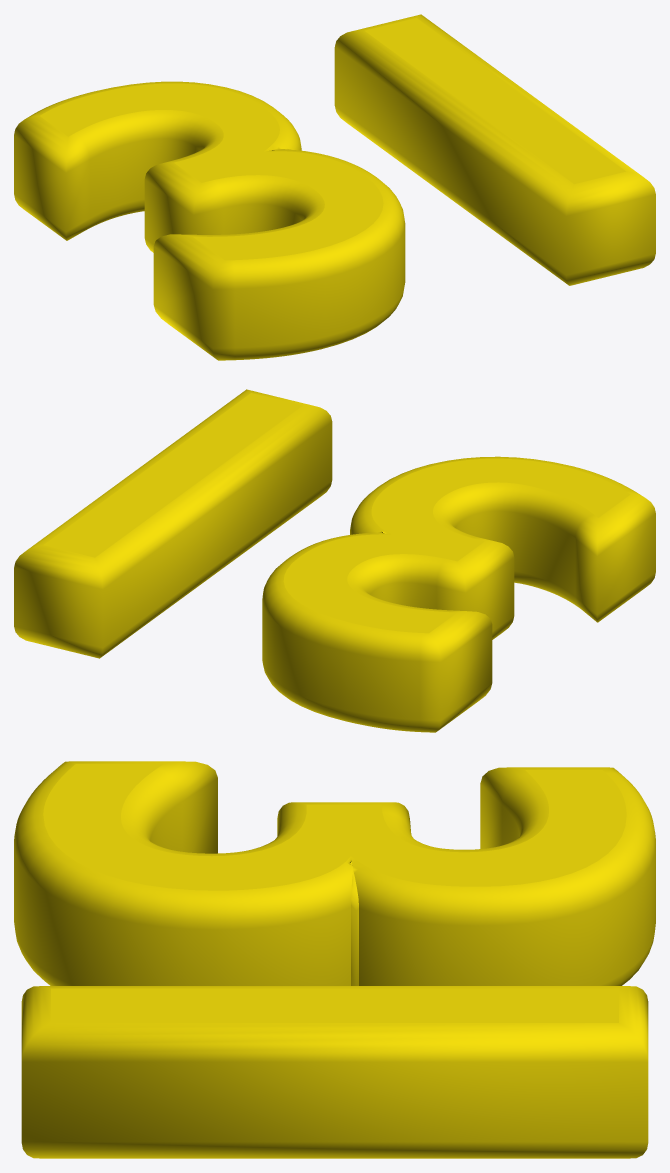
3 renders of one model, top to bottom at view 1: azimuth 30°, elevation 25°; view 2: azimuth 150°, elevation 25°; view 3: azimuth 270°, elevation 25°, orthographic. The views are drawn at different scales.
Parts seen in each view (by area): view 1: 31.001; view 2: 31.001; view 3: 31.001.
Part boxes in pixels (<box>): 31.001: <box>14,14,655,360</box>; 31.001: <box>14,389,655,732</box>; 31.001: <box>14,761,655,1158</box>.
Bounding box in the file's own units: 2.29 × 0.5 × 2.19.
